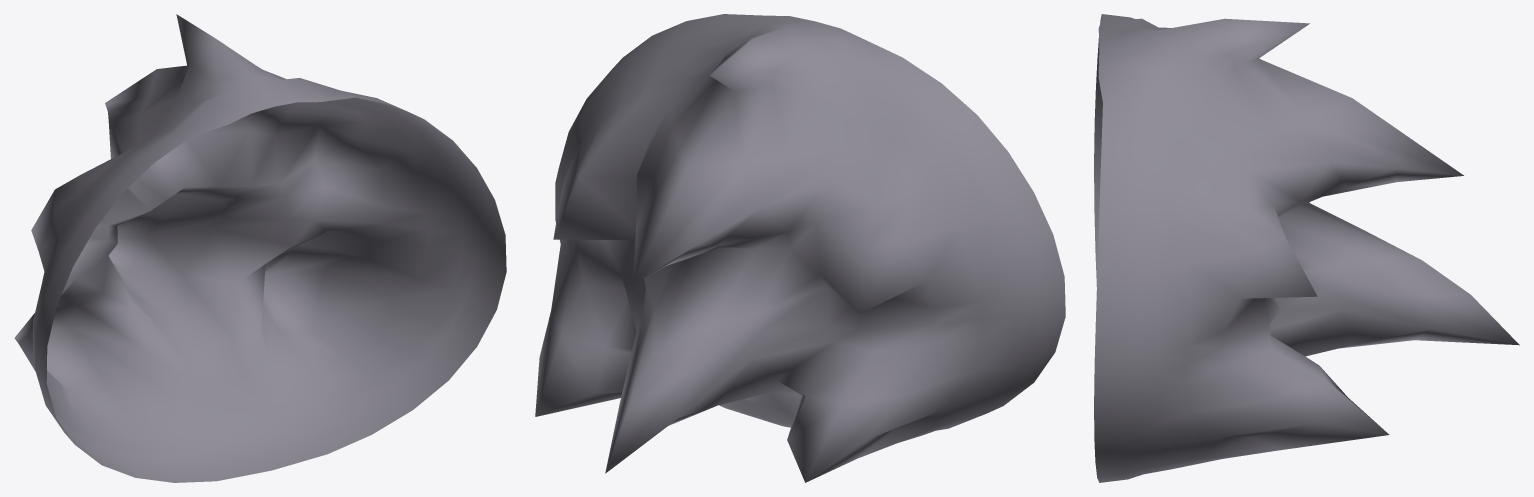
File: CoalaHear.fbx
3 renders of one model, left to right at view 1: azimuth 30°, elevation 25°; view 2: azimuth 150°, elevation 25°; view 3: azimuth 270°, elevation 25°, orthographic. The views are drawn at different scales.
Parts seen in each view (by area): view 1: Hear; view 2: Hear; view 3: Hear.
Part boxes in pixels (x1,y1,x2,y2): Hear: (14, 14, 506, 482); Hear: (535, 14, 1065, 482); Hear: (1094, 14, 1519, 482).
Size of the model in its own units: 255 by 342 by 278.
